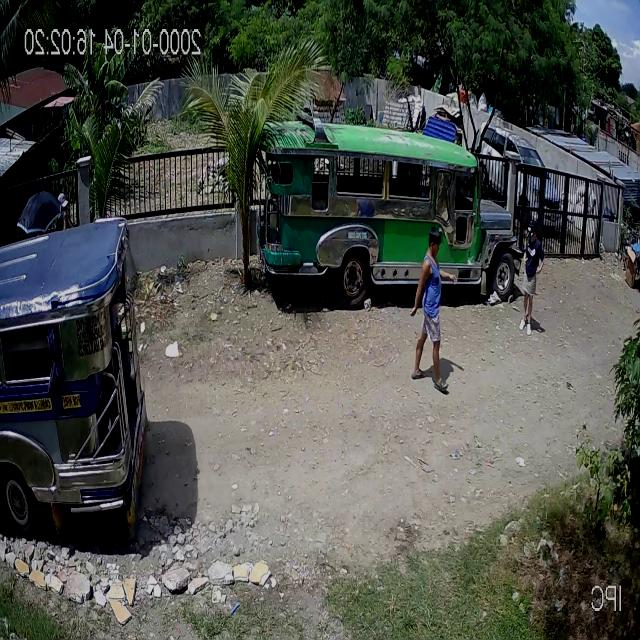standing: (517, 221, 544, 339), (55, 191, 74, 236)
walking: (407, 226, 447, 391)
